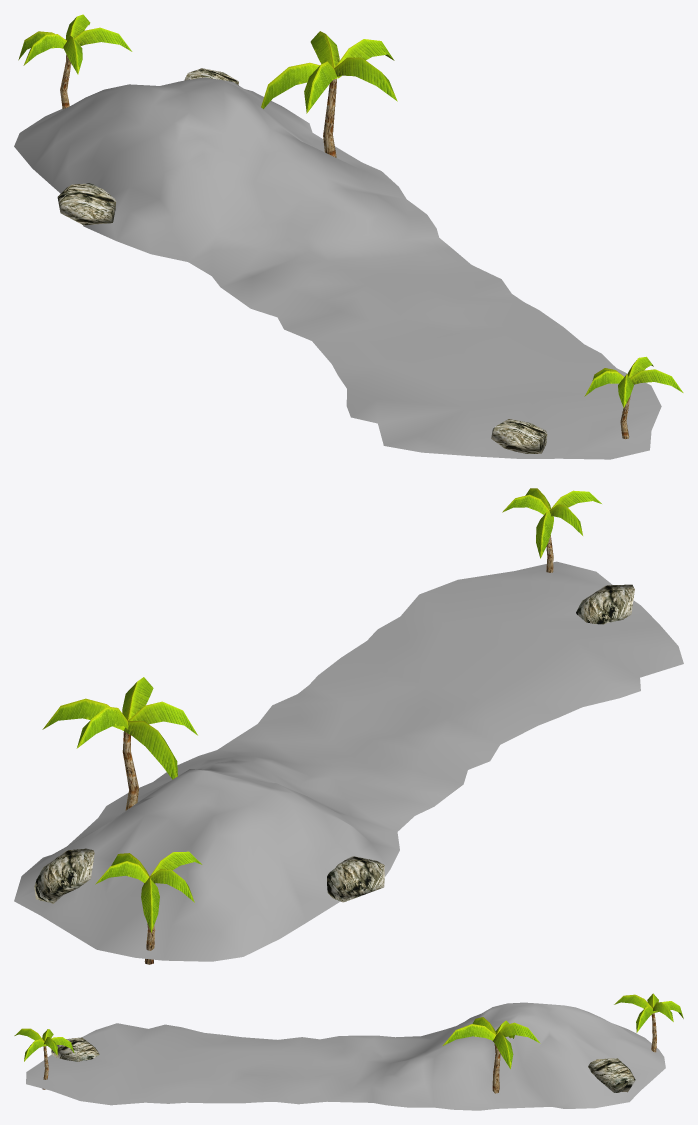
The model's file is desert_island_01.fbx.
3 renders of one model, top to bottom at view 1: azimuth 30°, elevation 25°; view 2: azimuth 150°, elevation 25°; view 3: azimuth 270°, elevation 25°, orthographic. The views are drawn at different scales.
Visible parts, largest first — view 1: desert_island_01; view 2: desert_island_01; view 3: desert_island_01.
Part boxes in pixels (bbox=[...]): desert_island_01: bbox=[14, 14, 683, 459]; desert_island_01: bbox=[14, 488, 683, 964]; desert_island_01: bbox=[14, 993, 683, 1110].
Size of the model in its own units: 18.48 by 7.37 by 50.08.
